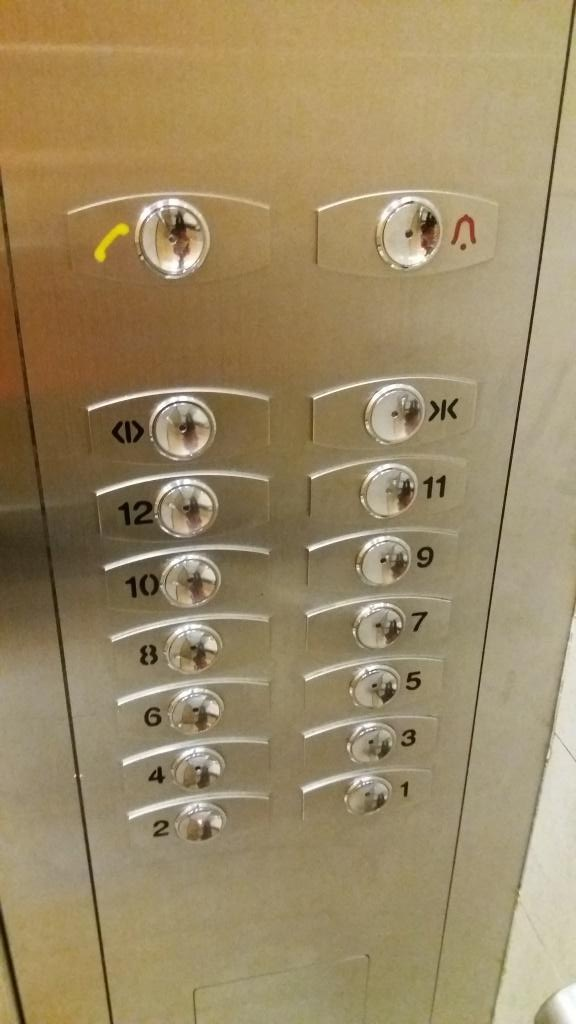1: (298, 761, 437, 825)
10: (100, 544, 272, 612)
11: (307, 453, 469, 524)
12: (91, 468, 272, 544)
2: (124, 792, 272, 846)
3: (299, 712, 441, 768)
4: (119, 736, 272, 793)
5: (300, 655, 446, 712)
7: (301, 591, 453, 654)
8: (106, 612, 272, 676)
9: (304, 525, 460, 591)
G: (114, 676, 272, 736)
alarm: (311, 183, 502, 281)
call: (64, 189, 274, 291)
close: (307, 371, 477, 453)
open: (82, 385, 274, 468)
